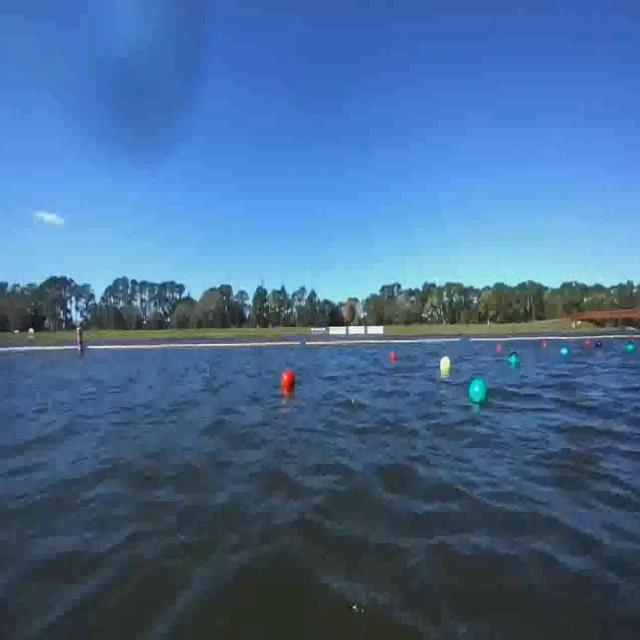green-buoy: (471, 375, 490, 402), (625, 344, 636, 354), (511, 354, 519, 367)
red-buoy: (282, 372, 294, 389), (388, 351, 393, 363), (496, 345, 502, 353)
yellow-buoy: (442, 356, 453, 372)
